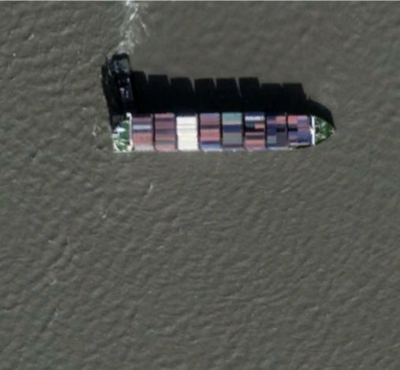boat: (105, 101, 338, 158)
